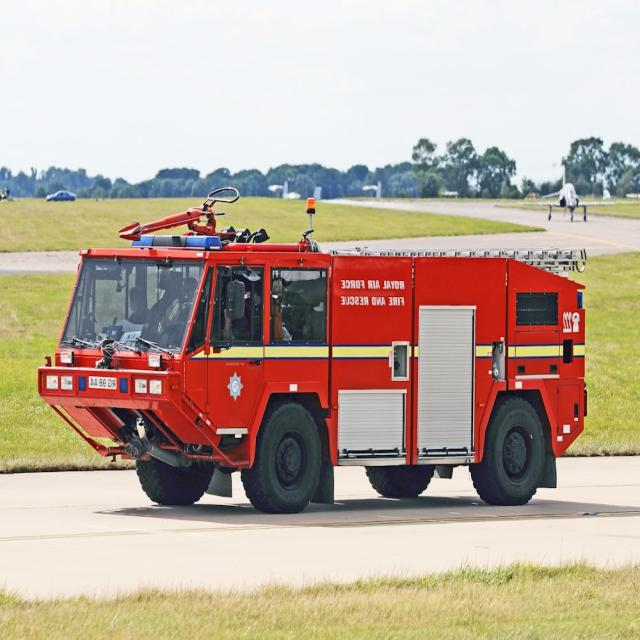emergency: (38, 187, 585, 512)
